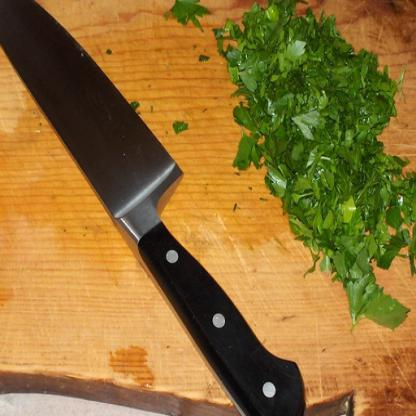knife: (0, 0, 306, 415)
